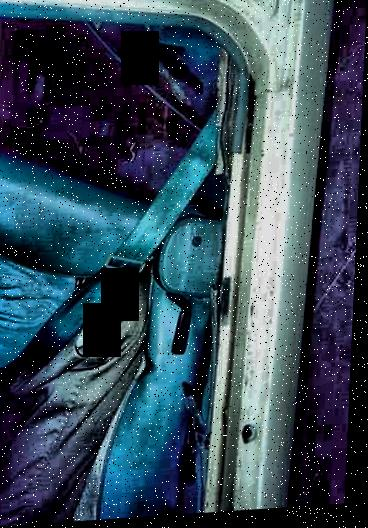seatbelt: (16, 132, 224, 359)
